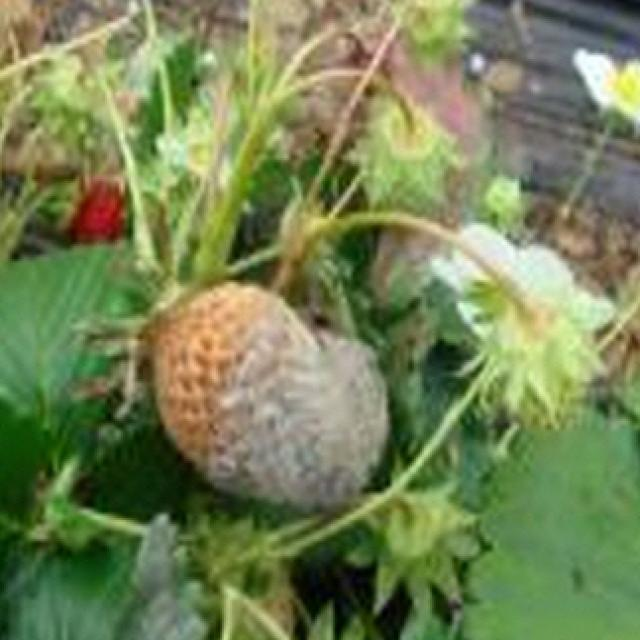Gray Mold: (180, 283, 392, 511)
